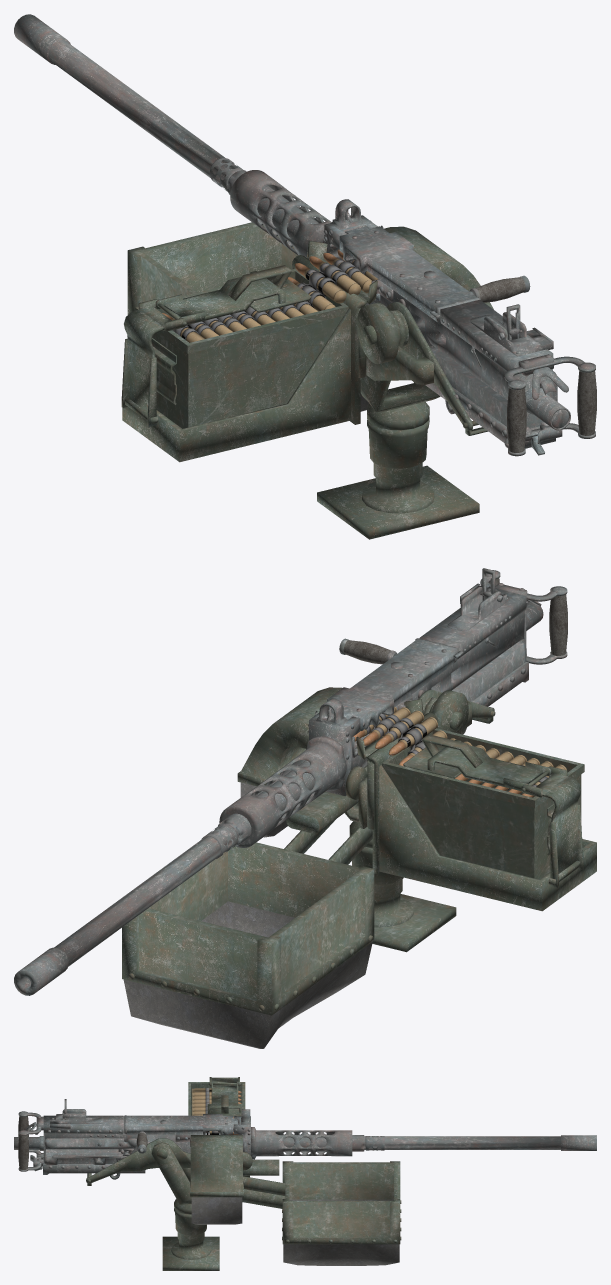
Rendered from Browning.fbx.
The picture shows the model from 3 angles, top to bottom: view 1: azimuth 30°, elevation 25°; view 2: azimuth 150°, elevation 25°; view 3: azimuth 270°, elevation 25°; orthographic projection. The views are drawn at different scales.
Visible parts, largest first — view 1: M2 add1, M2, M2 mag, M2 add2, M2 bu.004, M2 bu.003; view 2: M2 add2, M2, M2 add1, M2 mag, M2 bu.003, M2 bu.004, M2 bu.002; view 3: M2 add2, M2, M2 add1, M2 mag.
Part boxes in pixels (x1=…): M2 add1: x1=121, y1=240, x2=488, y2=539; M2: x1=14, y1=14, x2=596, y2=456; M2 mag: x1=135, y1=268, x2=348, y2=428; M2 add2: x1=127, y1=222, x2=493, y2=411; M2 bu.004: x1=295, y1=263, x2=346, y2=308; M2 bu.003: x1=306, y1=256, x2=360, y2=294; M2 add2: x1=122, y1=687, x2=374, y2=1048; M2: x1=14, y1=568, x2=567, y2=995; M2 add1: x1=286, y1=689, x2=596, y2=952; M2 mag: x1=382, y1=728, x2=584, y2=879; M2 bu.003: x1=375, y1=710, x2=426, y2=748; M2 bu.004: x1=388, y1=717, x2=437, y2=755; M2 bu.002: x1=363, y1=707, x2=413, y2=745; M2 add2: x1=182, y1=1135, x2=401, y2=1265; M2: x1=14, y1=1099, x2=596, y2=1179; M2 add1: x1=86, y1=1077, x2=279, y2=1270; M2 mag: x1=188, y1=1082, x2=245, y2=1115.
Bounding box in the file's own units: 59.07 × 48.53 × 164.
